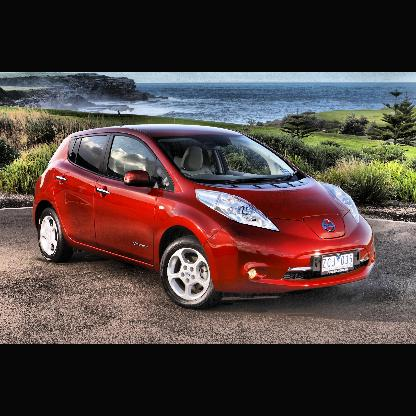Nissan Leaf Hatchback 2012: (33, 126, 379, 307)
